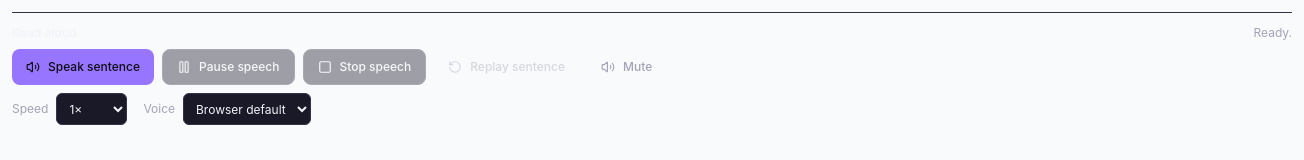
Test: DraftSpeech › does not speak while muted, and says so
The image size is (1304, 160).
Click the button "Mute".
click(627, 67)  # box [587,49,666,85]
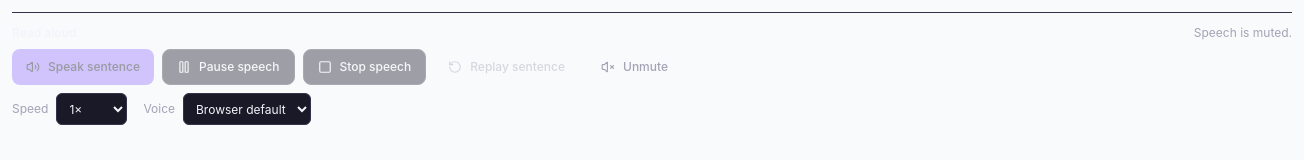
Expected: the text "Speech is muted." is shown, [1194,25,1292,41]
Expected: the button "Speak sentence" is disabled, [12,49,154,85]
Click the button "Unmute".
click(634, 67)  # box [587,49,682,85]
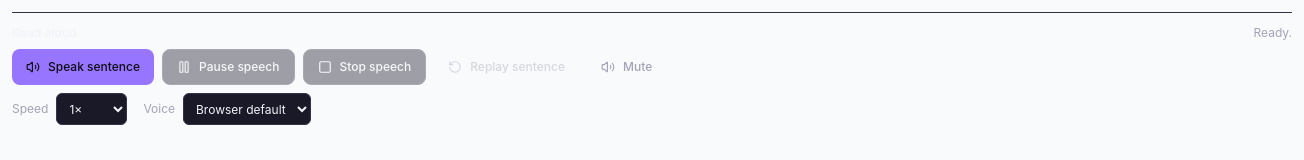
Expected: the button "Speak sentence" is enabled, [12,49,154,85]
